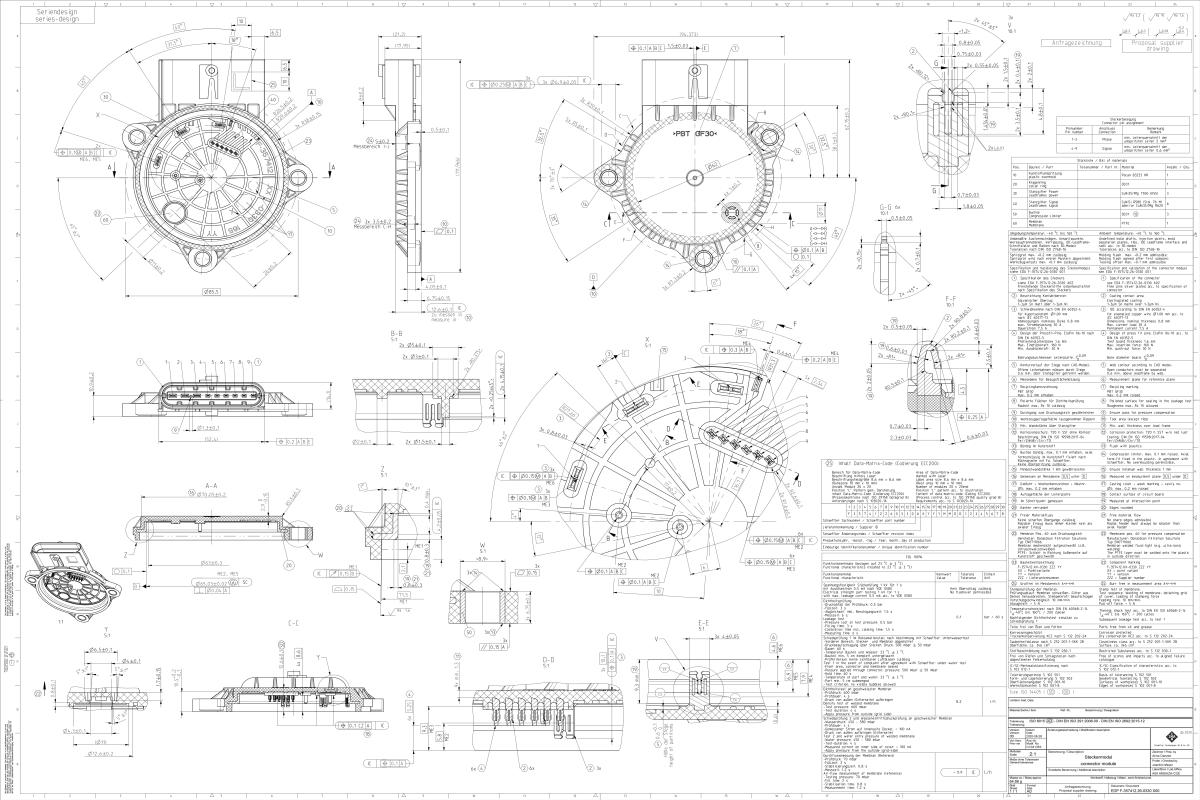falcon_r1: (464, 25, 867, 313), (488, 309, 851, 605), (40, 7, 346, 309), (349, 23, 478, 327), (361, 630, 627, 777), (876, 12, 1049, 215), (629, 613, 819, 776), (170, 610, 393, 743), (109, 479, 328, 601), (85, 351, 337, 453), (859, 282, 998, 454), (308, 461, 447, 621), (342, 324, 510, 449), (28, 623, 166, 768), (437, 531, 544, 655), (838, 196, 939, 305), (22, 535, 125, 632)
